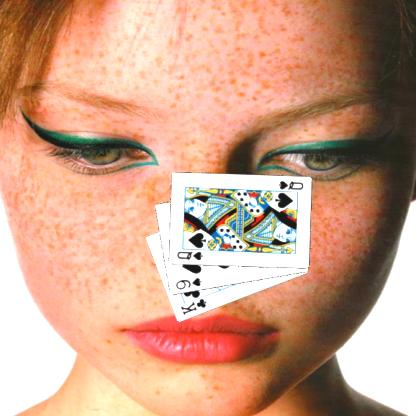9S: (172, 275, 202, 291)
KC: (178, 292, 208, 316)
QS: (174, 248, 204, 262), (276, 178, 304, 191)
